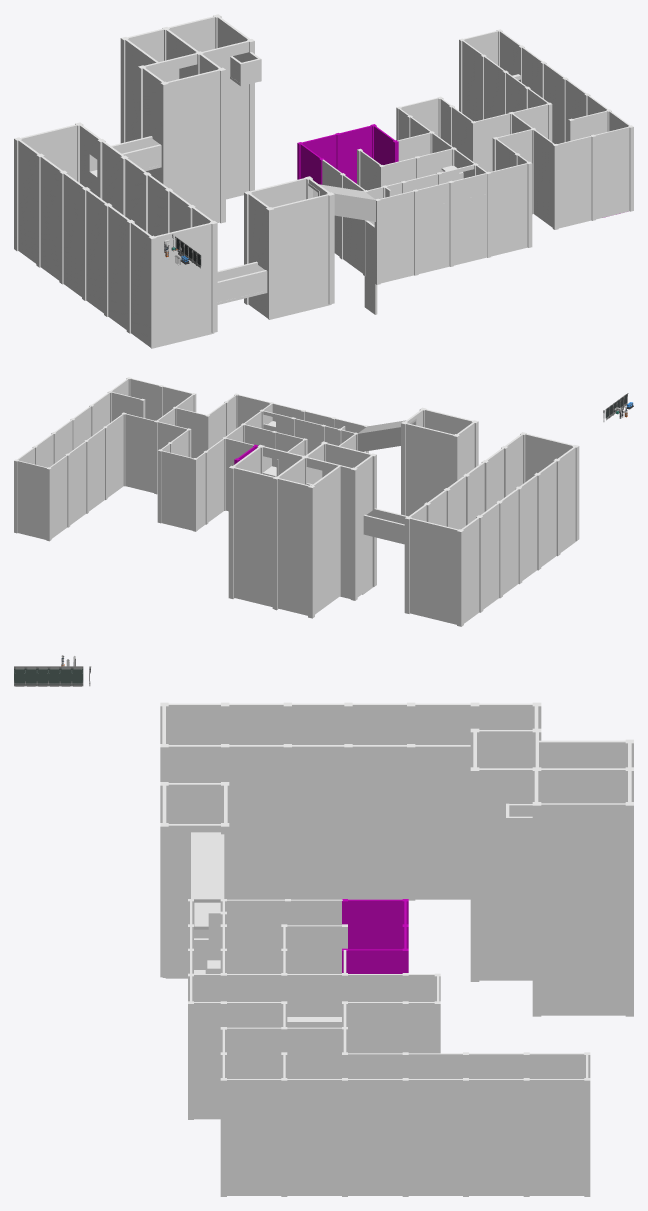
Rendered from Stage2.fbx.
The picture shows the model from 3 angles, top to bottom: view 1: azimuth 30°, elevation 25°; view 2: azimuth 150°, elevation 25°; view 3: azimuth 270°, elevation 25°; orthographic projection. The views are drawn at different scales.
Parts seen in each view (by area): view 1: wall__85_, wall__99_, wall__134_, wall__65_.001, wall__13_, wall__131_.001, wall__14_.001, wall__125_.001, wall__129_.001, wall__166_, wall__144_, wall__117_ (+70 smaller); view 2: wall__164_, wall__122_, wall__153_, wall__88_, wall__151_, wall__66_.001, wall__2_, wall__12_, wall__117_, wall__101_, wall__106_, wall__110_ (+59 smaller); view 3: wall__165_, wall__116_, wall__103_, wall__111_, wall__107_, wall__138_, wall__3_.001, wall__15_.001, wall__19_, wall__24_, wall__26_, wall__30_ (+51 smaller).
Boxes of the visible parts, box(x1,y1,x2,y2) form: wall__85_: box(268, 193, 331, 319); wall__99_: box(151, 222, 214, 348); wall__134_: box(168, 112, 219, 222); wall__65_.001: box(490, 163, 527, 256); wall__13_: box(594, 126, 629, 219); wall__131_.001: box(378, 191, 413, 283); wall__14_.001: box(556, 136, 591, 228); wall__125_.001: box(451, 173, 486, 265); wall__129_.001: box(416, 181, 450, 273); wall__166_: box(226, 79, 248, 199); wall__144_: box(164, 69, 220, 124); wall__117_: box(39, 155, 63, 280); wall__164_: box(234, 467, 273, 606); wall__122_: box(408, 517, 461, 624); wall__153_: box(278, 478, 309, 615); wall__88_: box(403, 422, 457, 516); wall__151_: box(312, 466, 340, 614); wall__66_.001: box(161, 450, 193, 530); wall__2_: box(17, 460, 47, 539); wall__12_: box(125, 413, 154, 492); wall__117_: box(479, 502, 499, 609); wall__101_: box(556, 446, 576, 552); wall__106_: box(518, 474, 538, 580); wall__110_: box(499, 488, 519, 594); wall__165_: box(541, 803, 625, 1015); wall__116_: box(413, 745, 470, 899); wall__103_: box(226, 745, 286, 899); wall__111_: box(349, 745, 410, 899); wall__107_: box(287, 745, 348, 899); wall__138_: box(479, 827, 532, 980); wall__3_.001: box(529, 1079, 584, 1195); wall__15_.001: box(468, 1079, 524, 1195); wall__19_: box(407, 1079, 462, 1195); wall__24_: box(347, 1079, 402, 1195); wall__26_: box(286, 1079, 341, 1195); wall__30_: box(226, 1079, 281, 1195).
Size of the model in its own units: 69312 by 23191 by 51178.
